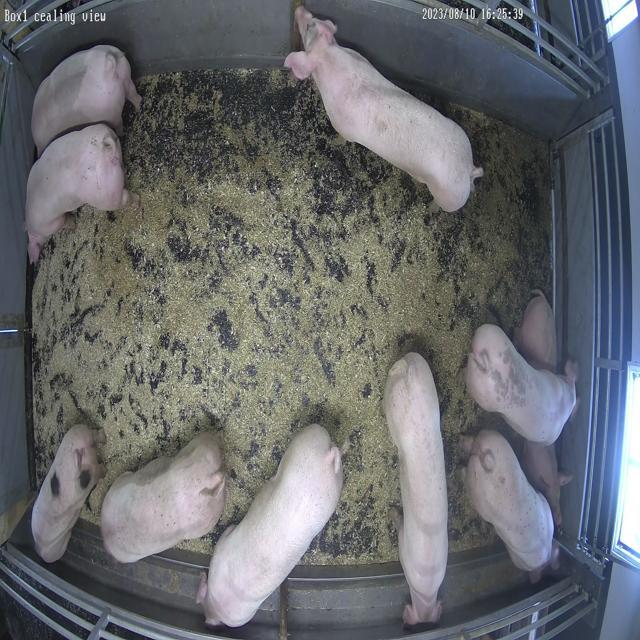Dirt: (106, 65, 429, 230), (438, 103, 552, 326)
Pig: (285, 7, 484, 212), (198, 425, 344, 628), (384, 353, 449, 626), (101, 434, 226, 564), (466, 431, 561, 584), (25, 125, 131, 262), (466, 325, 578, 446), (31, 44, 141, 154), (31, 425, 107, 564), (524, 441, 573, 528), (516, 291, 558, 372)
